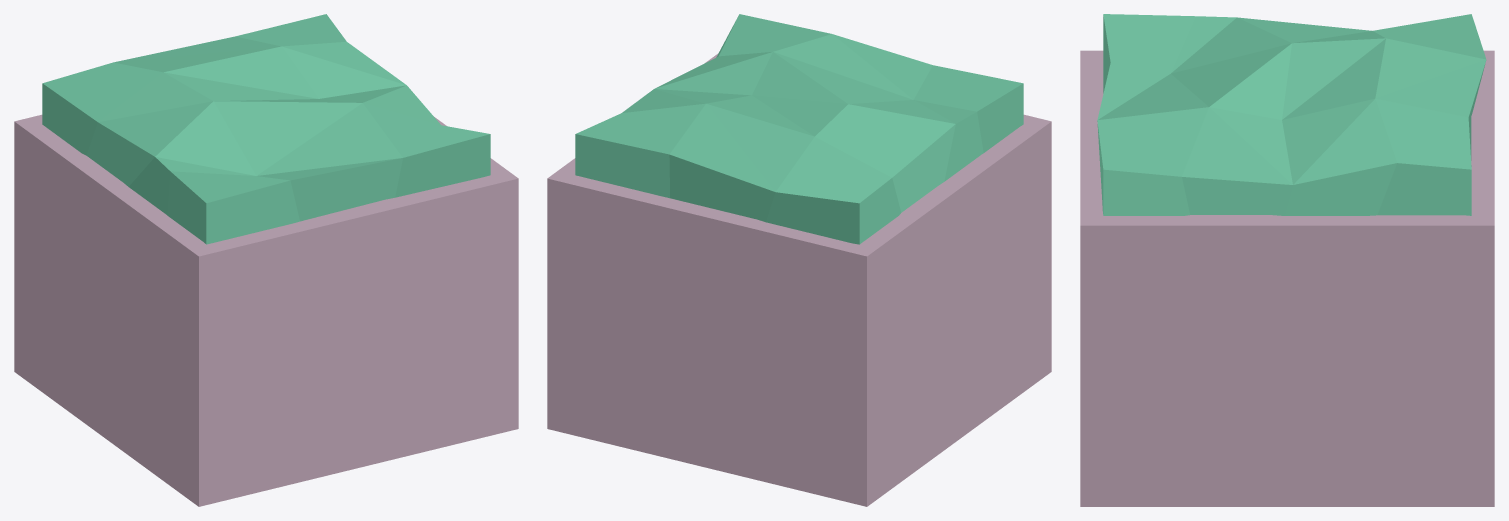
The model's file is block_2.fbx.
3 views of the same model, side by side, from view 1: azimuth 30°, elevation 25°; view 2: azimuth 150°, elevation 25°; view 3: azimuth 270°, elevation 25° (orthographic). The views are drawn at different scales.
Visible parts, largest first — view 1: block_2; view 2: block_2; view 3: block_2.
Boxes of the visible parts, left/top/right/bottom form: block_2: left=14, top=14, right=518, bottom=506; block_2: left=547, top=14, right=1051, bottom=506; block_2: left=1080, top=14, right=1494, bottom=506.
Bounding box in the file's own units: 200 × 187 × 200.
